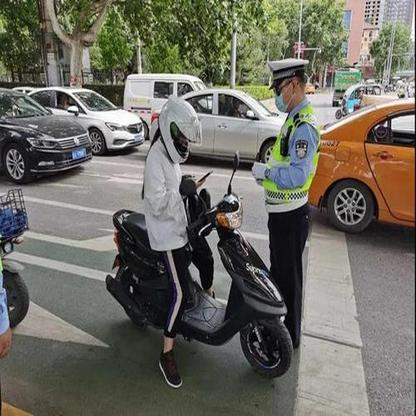target: (105, 94, 295, 380)
